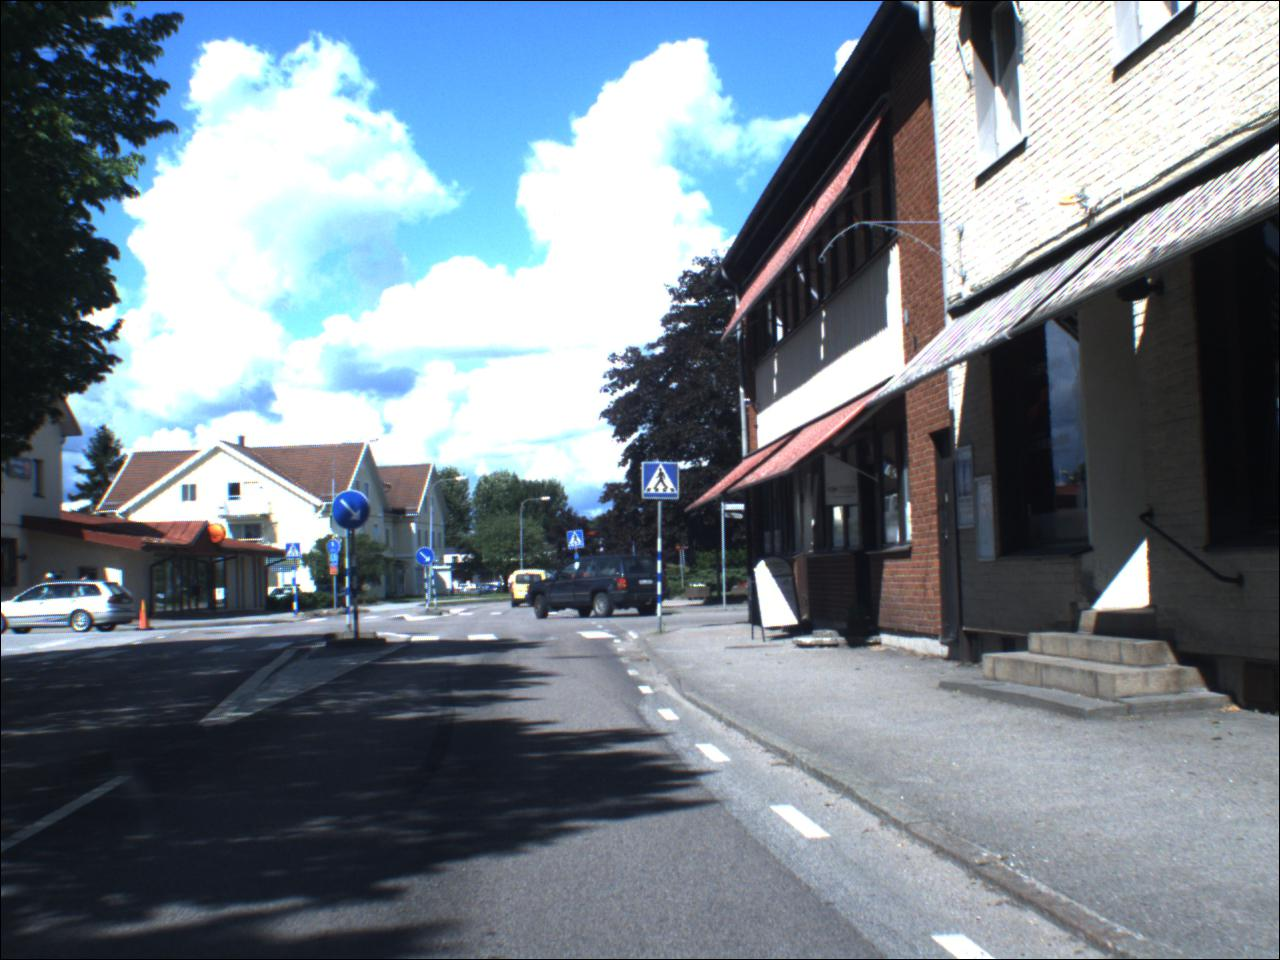PASS_RIGHT_SIDE: (334, 491, 374, 533), (418, 548, 438, 569)
PEDESTRIAN_CROSSING: (644, 463, 683, 503), (568, 532, 587, 552), (288, 544, 304, 560)
